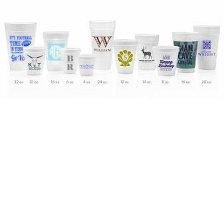paper_cup: (1, 19, 39, 73), (87, 15, 117, 73), (189, 21, 223, 72), (169, 28, 200, 75), (41, 27, 71, 74), (132, 30, 161, 72), (110, 36, 140, 75), (149, 42, 181, 78), (20, 44, 47, 77), (59, 45, 82, 75), (75, 54, 96, 78)
